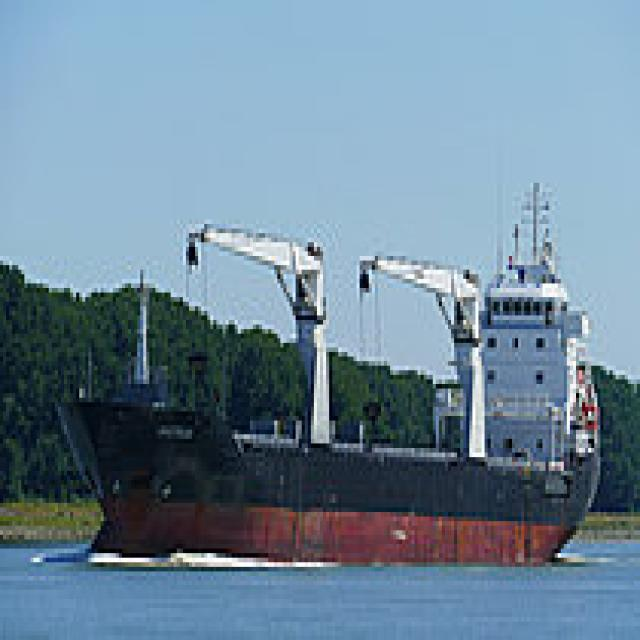Cargo: (52, 173, 600, 558)
